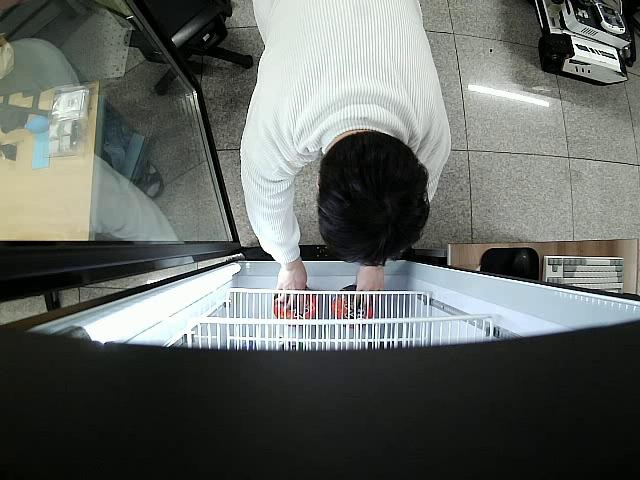00_hand: (349, 265, 385, 311), (275, 263, 308, 311)
01_shinRamen_L: (333, 285, 375, 324), (277, 288, 316, 328)
